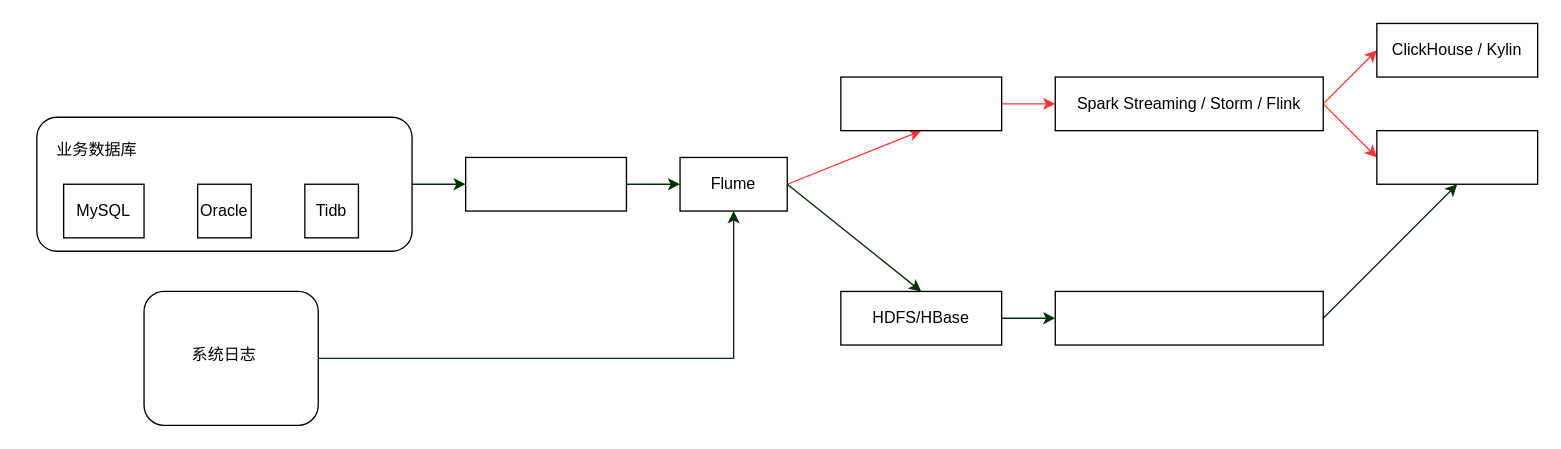
Some shapes in this 1561 by 449 pixel diagram are drawn without their labels. The centre of each missing label's shape, as x and y in pixels:
"Canal/Sqoop" belongs at (x=545, y=183).
"HBase" belongs at (x=1457, y=156).
"KafKa" belongs at (x=921, y=103).
"MR / Spark" belongs at (x=1188, y=317).
